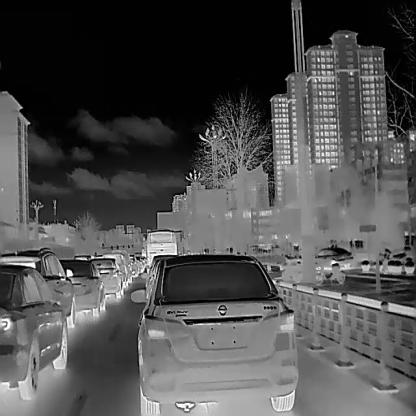bus: (145, 228, 177, 268)
car: (130, 248, 300, 415), (0, 262, 68, 400), (0, 245, 77, 328), (56, 257, 106, 317), (88, 254, 124, 298), (314, 246, 354, 270)
